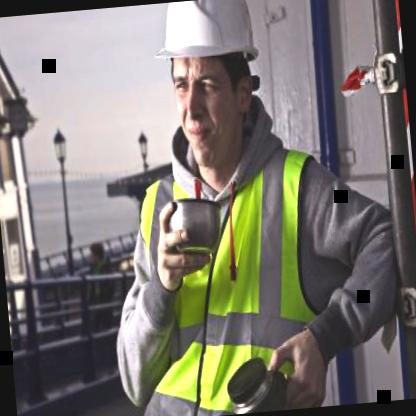helmet: (148, 0, 280, 180)
